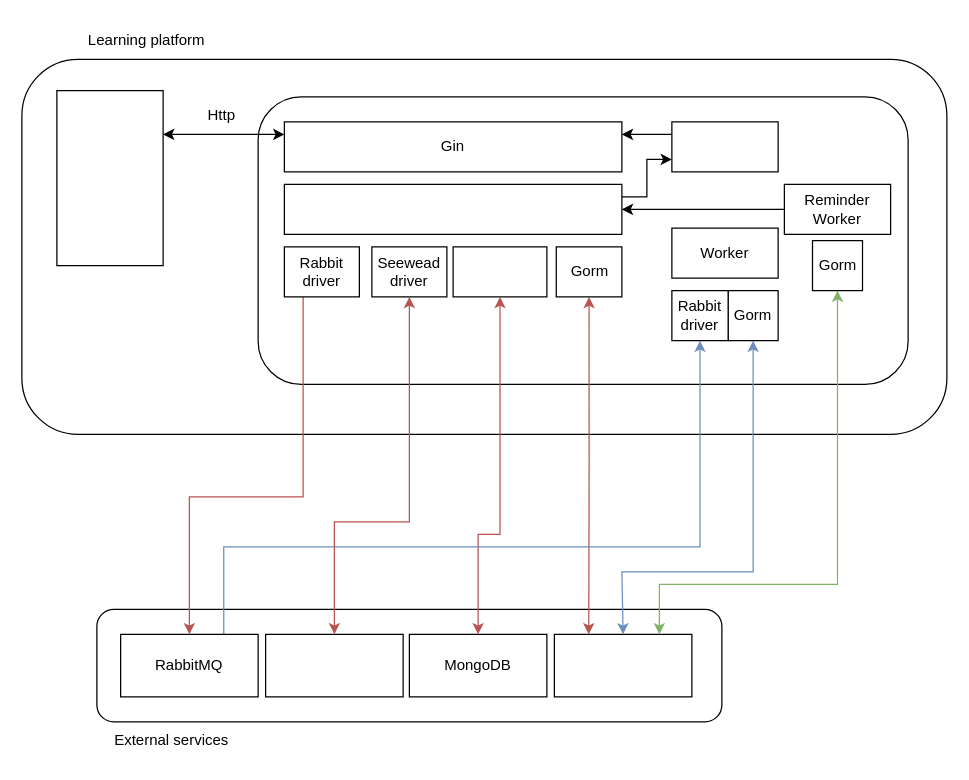
This 969x780 diagram has some shape labels left out. The shapes that lost their labels are listed below. From the top down, each one's centre as x and y in pixels, then its label:
(724,146): SSE Hub
(109,177): Client app
(452,208): Business Logic
(499,271): MongoDb Drivers
(333,665): SeeweadFS
(622,665): Postgress
